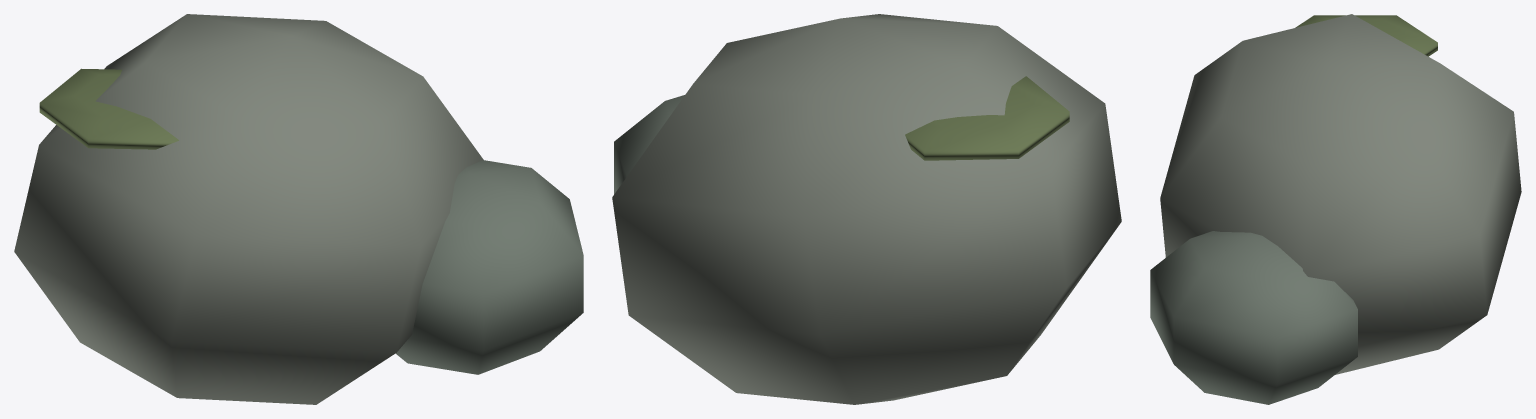
File: Nature_Rock.glb
3 renders of one model, left to right at view 1: azimuth 30°, elevation 25°; view 2: azimuth 150°, elevation 25°; view 3: azimuth 270°, elevation 25°, orthographic. The views are drawn at different scales.
Parts seen in each view (by area): view 1: _MeshInstance3D_4458, _MeshInstance3D_4459, _MeshInstance3D_4460; view 2: _MeshInstance3D_4458, _MeshInstance3D_4460, _MeshInstance3D_4459; view 3: _MeshInstance3D_4458, _MeshInstance3D_4459, _MeshInstance3D_4460.
Part boxes in pixels (box(x1,y1,x2,y2)): _MeshInstance3D_4458: box(14, 14, 483, 404); _MeshInstance3D_4459: box(396, 160, 583, 374); _MeshInstance3D_4460: box(39, 68, 178, 149); _MeshInstance3D_4458: box(612, 14, 1121, 404); _MeshInstance3D_4460: box(905, 76, 1069, 160); _MeshInstance3D_4459: box(614, 95, 684, 194); _MeshInstance3D_4458: box(1160, 14, 1521, 374); _MeshInstance3D_4459: box(1150, 231, 1357, 404); _MeshInstance3D_4460: box(1295, 15, 1437, 56).
Size of the model in its own units: 1.67 by 1.09 by 1.28.
